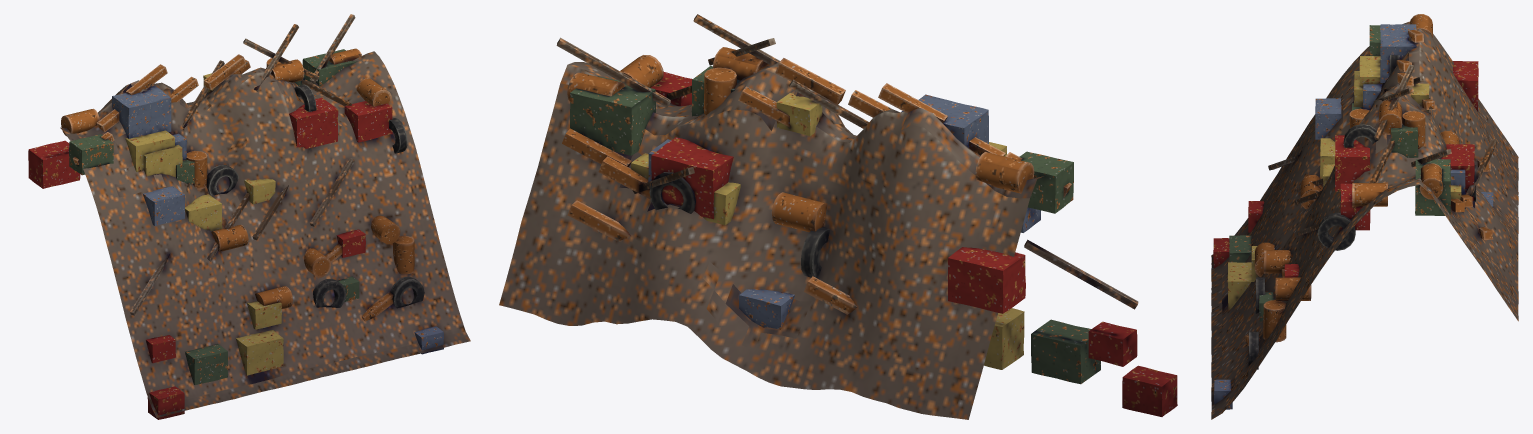
The model's file is JunkMountain.glb.
3 views of the same model, side by side, from view 1: azimuth 30°, elevation 25°; view 2: azimuth 150°, elevation 25°; view 3: azimuth 270°, elevation 25° (orthographic). The views are drawn at different scales.
Visible parts, largest first — view 1: Heap, Bales1, Drums, Bales4, Bales2, Bales3, Girders, Tyres, Plates; view 2: Heap, Bales1, Bales3, Plates, Drums, Girders, Bales4, Bales2, Tyres; view 3: Heap, Drums, Bales1, Bales2, Bales3, Bales4, Girders, Tyres, Plates.
Boxes of the visible parts, x1,y1,x2,y2 form: Heap: [60, 51, 470, 417]; Bales1: [28, 97, 392, 419]; Drums: [61, 48, 414, 308]; Bales4: [125, 73, 283, 375]; Bales2: [112, 85, 443, 354]; Bales3: [69, 49, 359, 384]; Girders: [130, 14, 355, 315]; Tyres: [206, 84, 424, 308]; Plates: [73, 54, 393, 321]; Heap: [499, 62, 1043, 419]; Bales1: [651, 72, 1177, 416]; Bales3: [570, 66, 1100, 384]; Plates: [562, 58, 1071, 314]; Drums: [567, 47, 1034, 232]; Girders: [556, 14, 1138, 309]; Bales4: [631, 93, 1024, 369]; Bales2: [648, 94, 1040, 329]; Tyres: [649, 172, 829, 278]; Heap: [1211, 21, 1518, 419]; Drums: [1254, 14, 1459, 342]; Bales1: [1213, 61, 1478, 277]; Bales2: [1214, 24, 1493, 409]; Bales3: [1229, 25, 1450, 321]; Bales4: [1227, 56, 1461, 311]; Girders: [1268, 64, 1497, 236]; Tyres: [1248, 55, 1476, 369]; Plates: [1245, 30, 1493, 345].
Bounding box in the file's own units: 33.51 × 27.39 × 26.02.
9 materials, 9 textured.
